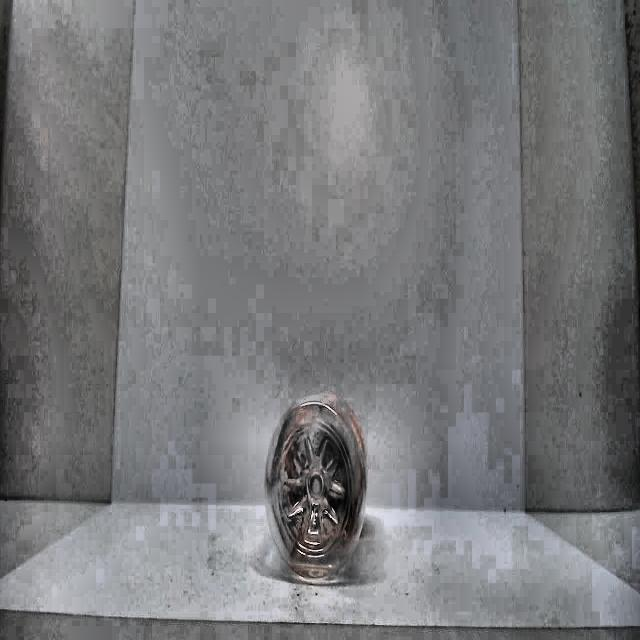Bottles: (254, 372, 382, 586)
